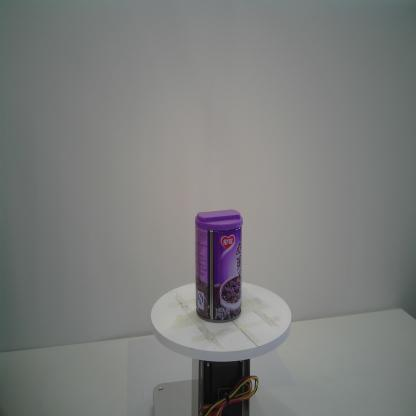Canned Food: (194, 207, 243, 324)
